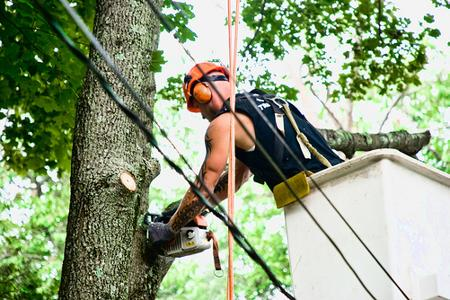person: (143, 63, 349, 263)
